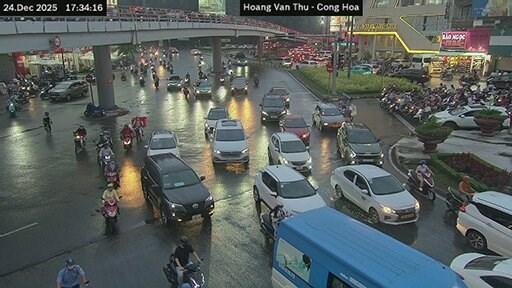motorbike: (406, 169, 434, 198), (96, 198, 117, 233), (182, 261, 204, 287), (163, 253, 179, 287), (444, 189, 467, 212), (259, 211, 274, 238), (259, 212, 274, 238), (83, 103, 105, 116), (98, 154, 112, 169), (38, 85, 53, 99), (105, 171, 118, 187), (73, 133, 83, 153), (122, 135, 131, 149), (278, 212, 291, 221), (134, 126, 141, 142), (441, 72, 452, 80), (9, 103, 15, 117), (182, 85, 188, 98), (218, 75, 224, 84), (138, 76, 144, 85), (253, 77, 258, 85), (184, 76, 188, 85), (121, 72, 125, 80), (154, 80, 157, 88)
